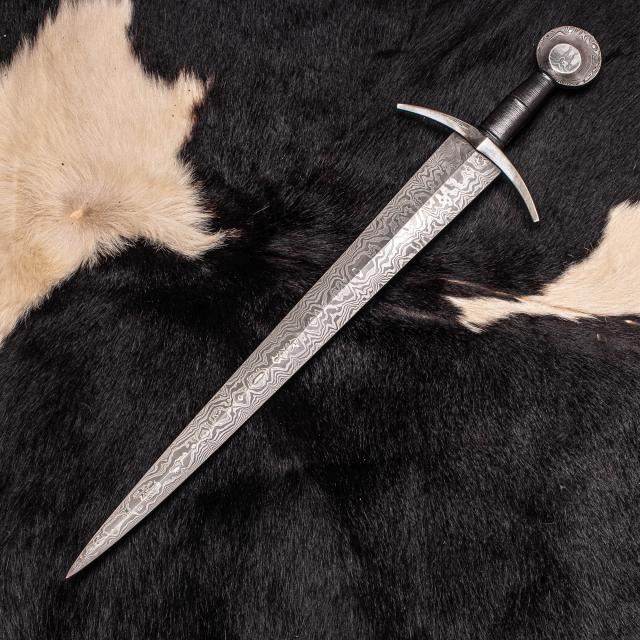Weapon: (60, 18, 605, 590)
